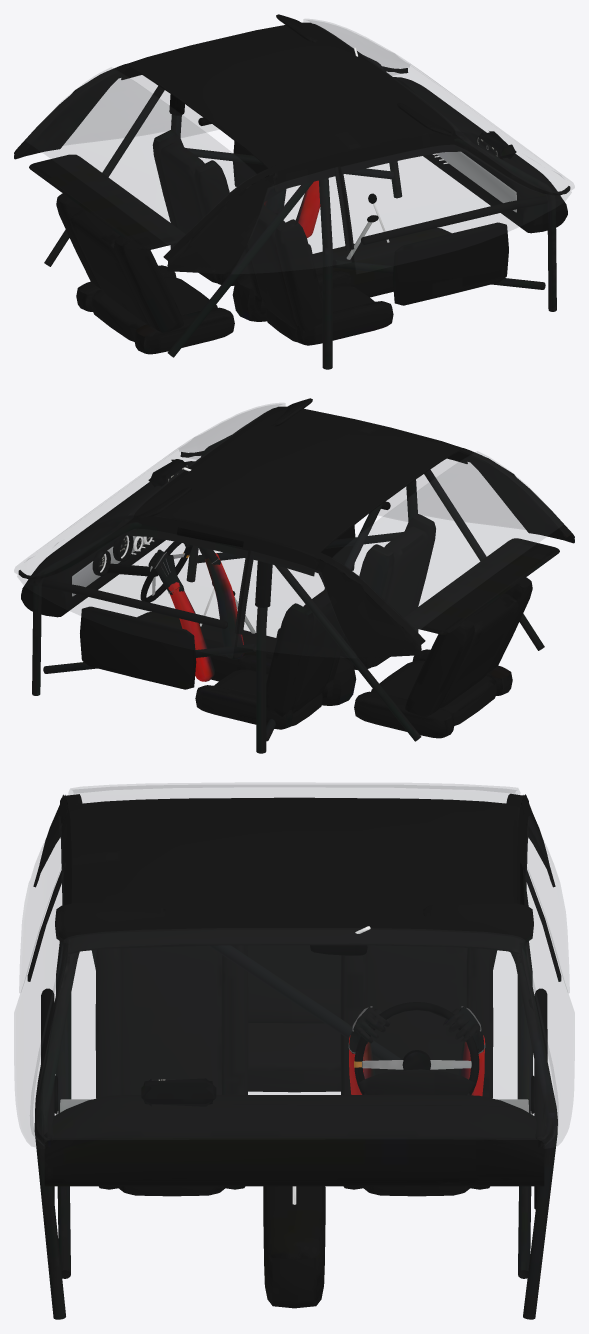
Rendered from kz_kestrel_cockpit_low.glb.
The picture shows the model from 3 angles, top to bottom: view 1: azimuth 30°, elevation 25°; view 2: azimuth 150°, elevation 25°; view 3: azimuth 270°, elevation 25°; orthographic projection. The views are drawn at different scales.
Parts seen in each view (by area): view 1: cockpit_shell, cabin_glass, window_R, hands; view 2: cockpit_shell, cabin_glass, window_L, hands, steering_wheel; view 3: cockpit_shell, cabin_glass, window_L, window_R, hands, steering_wheel.
Boxes of the visible parts, x1,y1,x2,y2 form: cockpit_shell: (14,14,570,369); cabin_glass: (25,19,574,273); window_R: (341,145,571,273); hands: (264,180,320,237); cockpit_shell: (18,398,574,753); cabin_glass: (14,403,563,657); window_L: (17,529,247,657); hands: (150,543,243,681); steering_wheel: (140,541,192,602); cockpit_shell: (27,793,561,1319); cabin_glass: (19,783,569,1144); window_L: (526,868,574,1148); window_R: (14,868,62,1148); hands: (348,1006,485,1096); steering_wheel: (354,1002,479,1095).
Bounding box in the file's own units: 2.1 × 1.11 × 1.65.
Materials: 4 (2 with a texture image).
